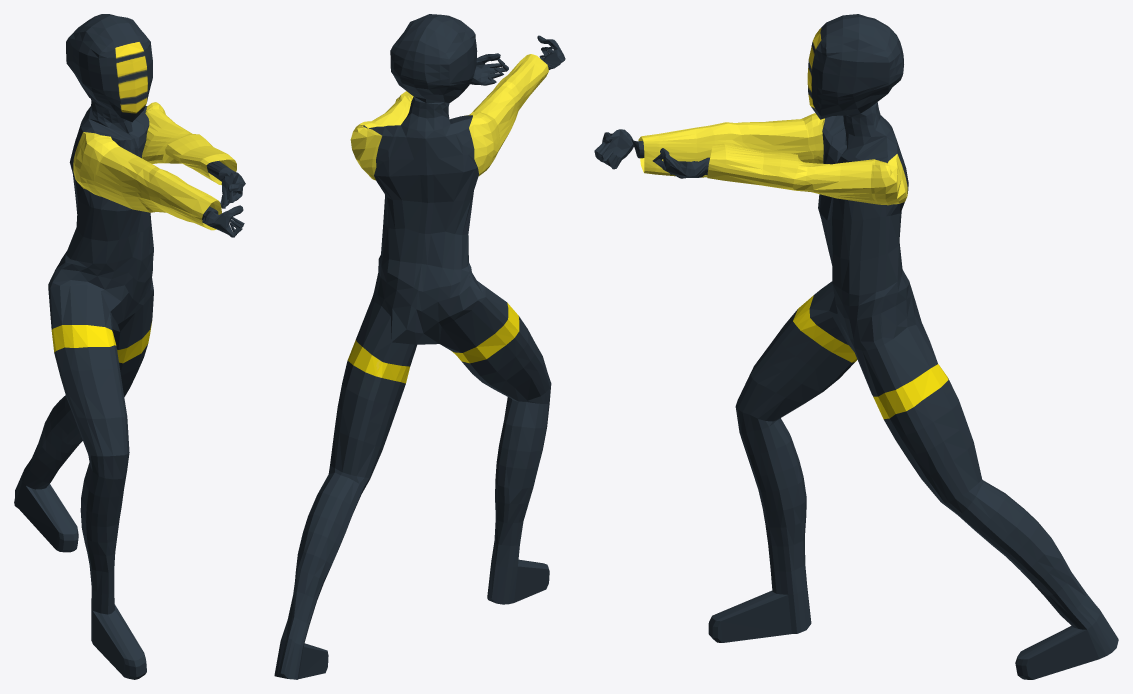
Rendered from Sentry_Attack_000021.obj.
The picture shows the model from 3 angles, left to right: view 1: azimuth 30°, elevation 25°; view 2: azimuth 150°, elevation 25°; view 3: azimuth 270°, elevation 25°; orthographic projection. The views are drawn at different scales.
Parts seen in each view (by area): view 1: Cube; view 2: Cube; view 3: Cube.
Part boxes in pixels (x1,y1,x2,y2): Cube: (14, 14, 245, 679); Cube: (274, 14, 565, 679); Cube: (594, 14, 1118, 679).
Size of the model in its own units: 0.9056 by 3.76 by 2.78.
